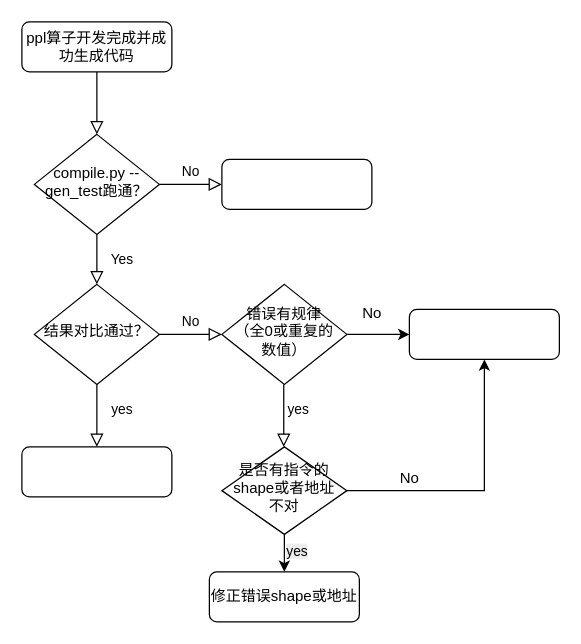
Some shapes in this 581 by 644 pixel diagram are drawn without their labels. The shapes that lost their labels are listed below. From the top down, each one's centre as x and y in pixels, then its label:
[296,183]: 根据报错检查对应指令参数是否合法
[483,333]: 打印并检查中间lmem计算结果
[96,471]: 结束
